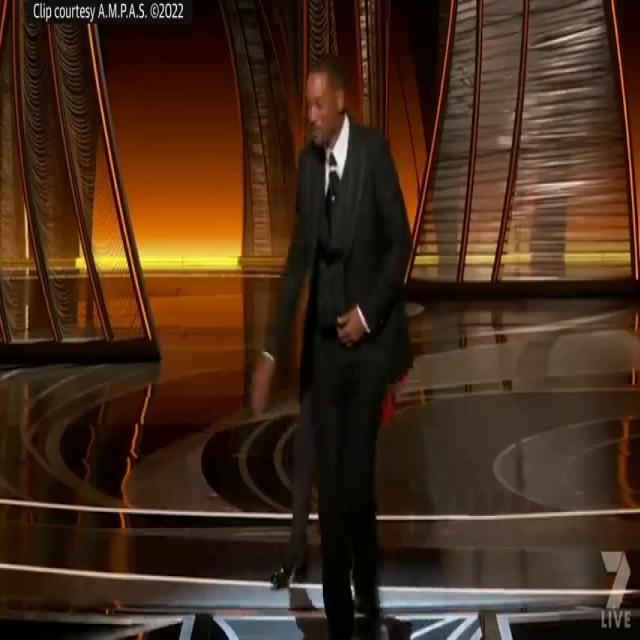non-fight: (244, 44, 418, 640)
